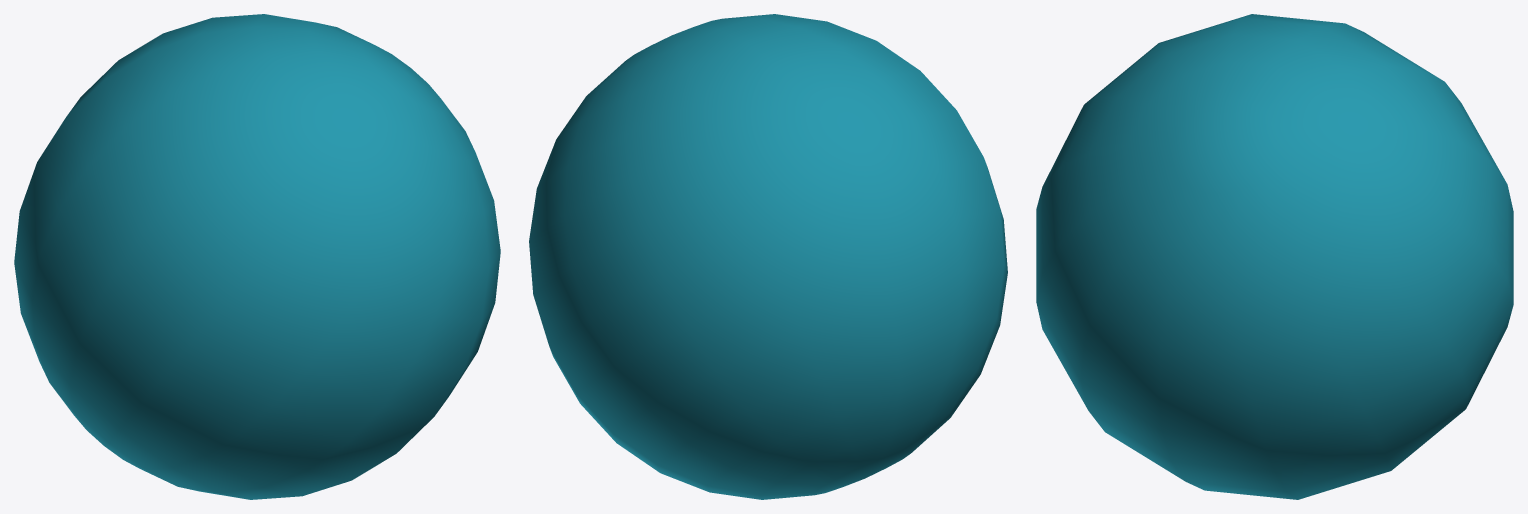
Rendered from bola.fbx.
The picture shows the model from 3 angles, left to right: view 1: azimuth 30°, elevation 25°; view 2: azimuth 150°, elevation 25°; view 3: azimuth 270°, elevation 25°; orthographic projection.
Visible parts, largest first — view 1: bola; view 2: bola; view 3: bola.
Boxes of the visible parts, bbox=[...] form: bola: bbox=[14, 14, 500, 499]; bola: bbox=[529, 14, 1007, 499]; bola: bbox=[1036, 14, 1513, 499].
Size of the model in its own units: 7.55 by 7.58 by 7.43.
